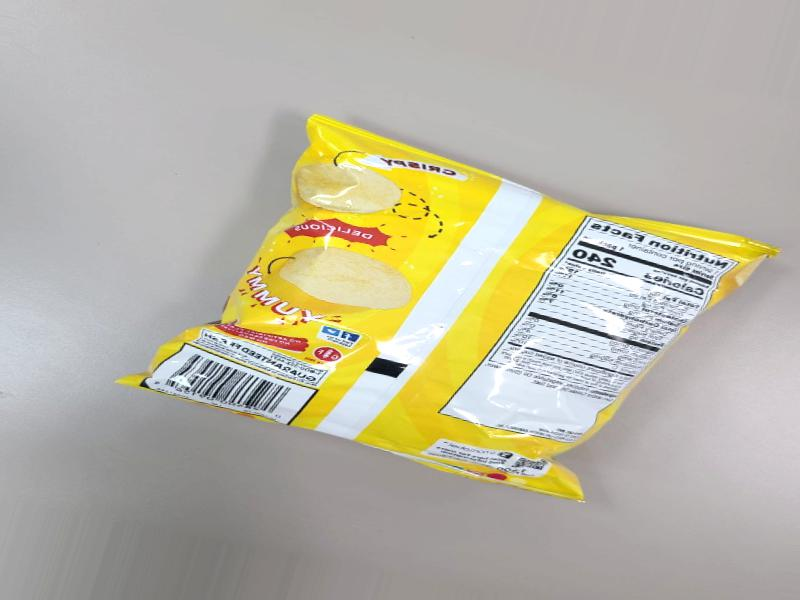lays: (108, 86, 716, 593)
